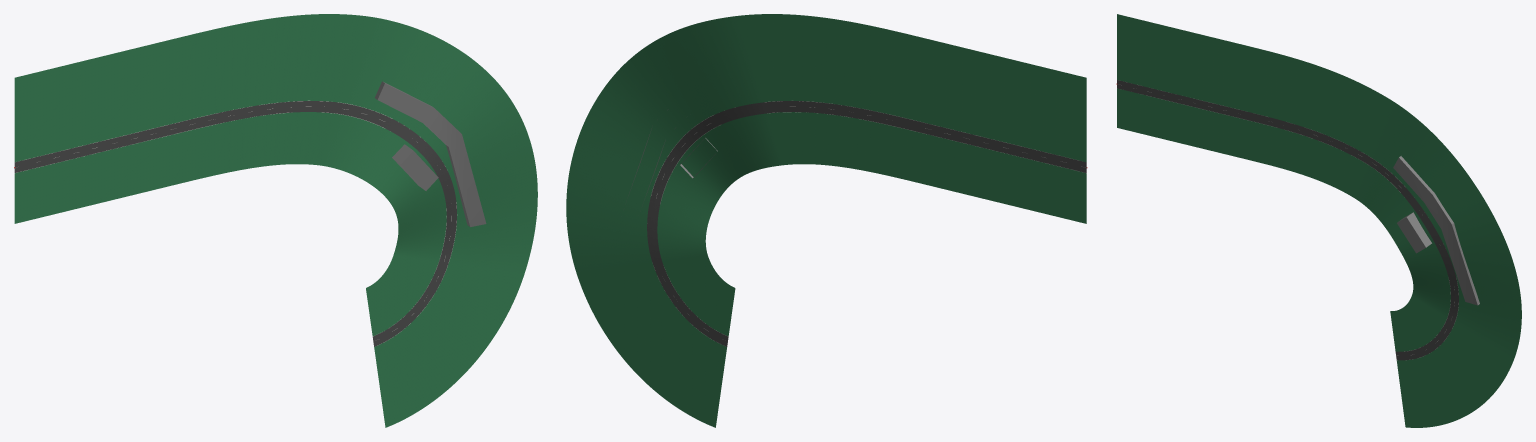
Rendered from crest-curve.fbx.
The picture shows the model from 3 angles, left to right: view 1: azimuth 30°, elevation 25°; view 2: azimuth 150°, elevation 25°; view 3: azimuth 330°, elevation 25°; orthographic projection. The views are drawn at different scales.
Parts seen in each view (by area): view 1: DefaultName (×6); view 2: DefaultName (×4); view 3: DefaultName (×6).
Part boxes in pixels (<box>): DefaultName (×6): <box>14,14,537,427</box>; DefaultName (×4): <box>566,14,1086,427</box>; DefaultName (×6): <box>1117,14,1521,427</box>.
Size of the model in its own units: 32280 by 26036 by 1431.
